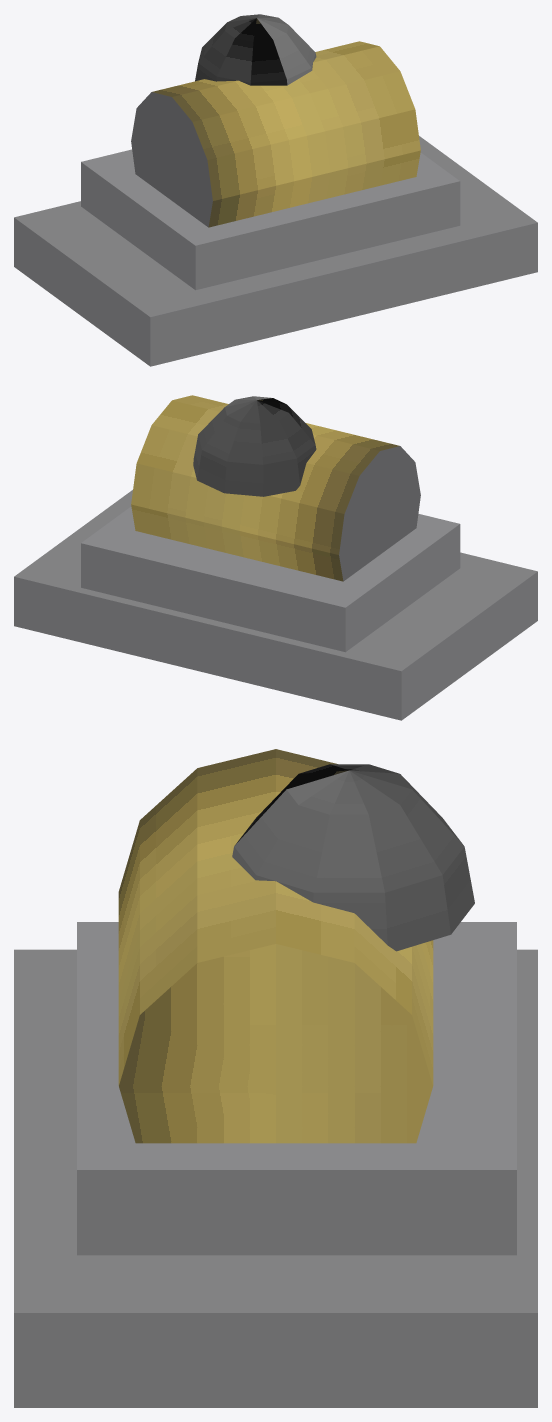
Rendered from Building_TrapIED_HighExplosive.glb.
3 views of the same model, one above another, from view 1: azimuth 30°, elevation 25°; view 2: azimuth 150°, elevation 25°; view 3: azimuth 270°, elevation 25° (orthographic). The views are drawn at different scales.
Parts seen in each view (by area): view 1: TrapIED_HighExplosive; view 2: TrapIED_HighExplosive; view 3: TrapIED_HighExplosive.
Boxes of the visible parts, x1,y1,x2,y2 form: TrapIED_HighExplosive: (14, 14, 537, 366); TrapIED_HighExplosive: (14, 395, 537, 720); TrapIED_HighExplosive: (14, 749, 537, 1407).
Size of the model in its own units: 0.82 by 0.48 by 0.5.
1 material, 1 textured.
